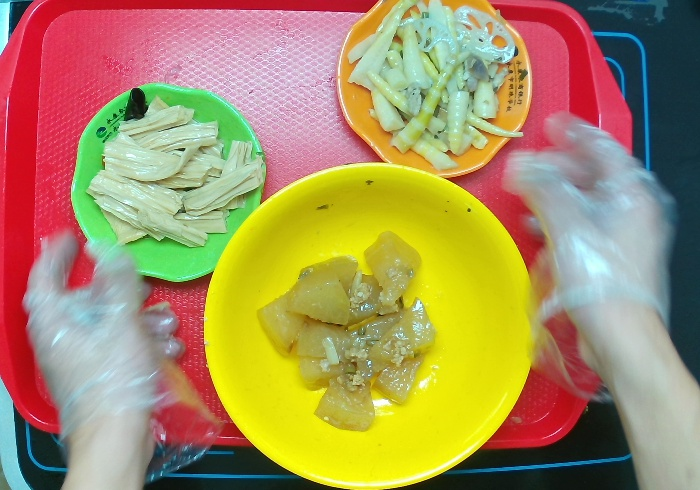YKMZ-Huang_Se_Tang_Wan: (200, 161, 536, 490)
YKMZ-Ju_Se_Ao_Bian_Wan: (334, 1, 535, 178)
YKMZ-Lv_Se_Ao_Bian_Wan: (68, 81, 269, 284)
